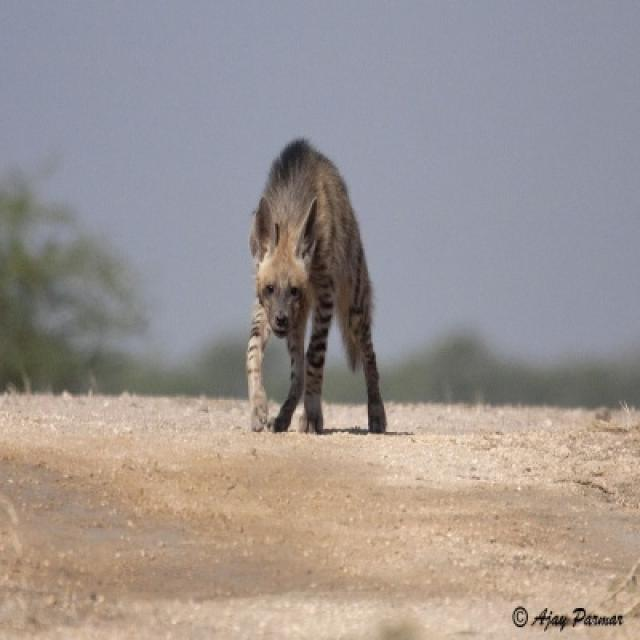hyena: (246, 139, 389, 437)
